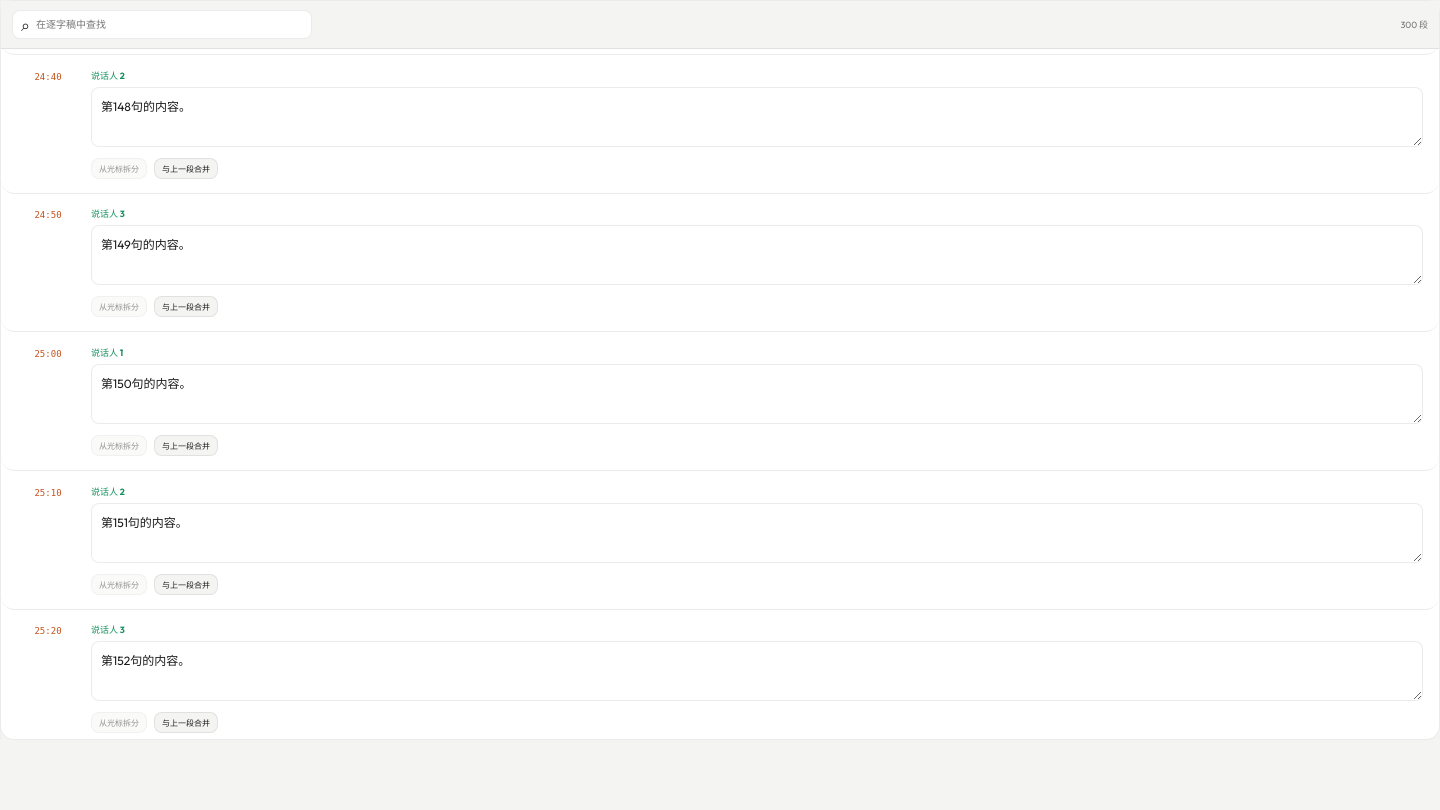
Test case: TranscriptPanel 只重画变了的行 › 连着敲几个字，每一下都只动这一行；换到另一行接着敲也是
The image size is (1440, 810).
(page scrolled)
Type "一二三" into the text box named "25:00 逐字稿" at (757, 394), box [91, 364, 1423, 424]
(page scrolled)
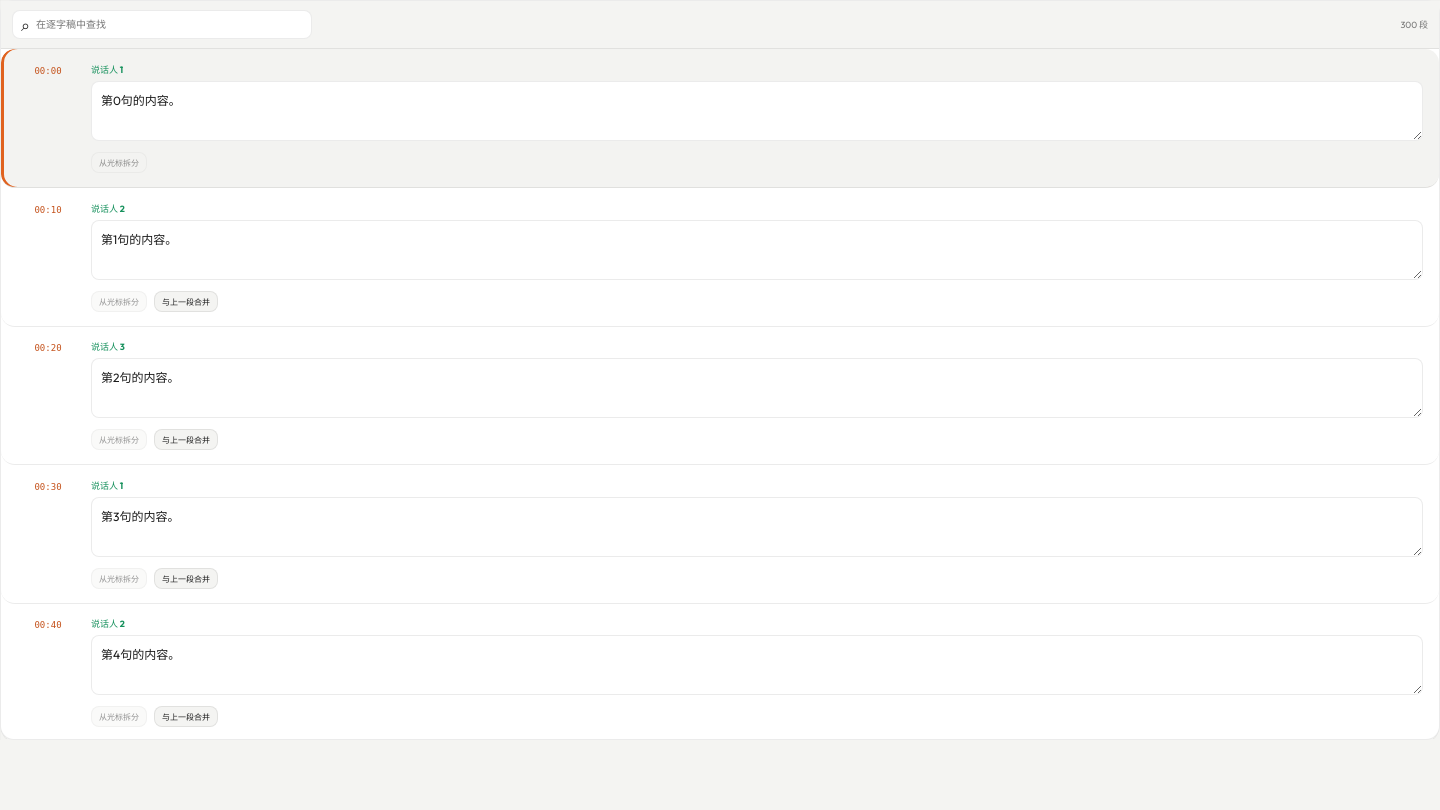
Type "四" into the text box named "00:10 逐字稿" at (757, 249), box [91, 220, 1423, 279]
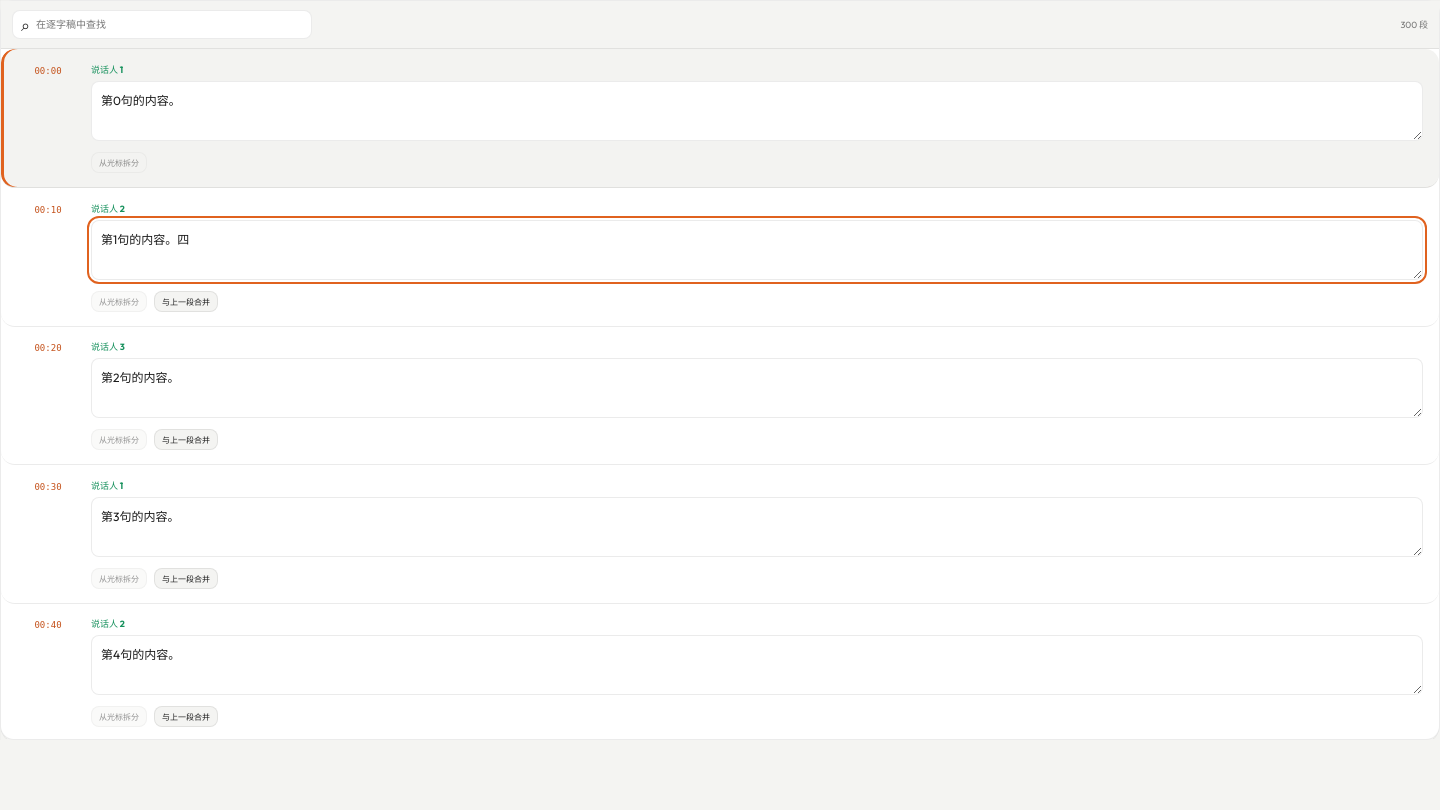
Check: the text box named "00:10 逐字稿" holds "第1句的内容。四", box [91, 220, 1423, 279]
